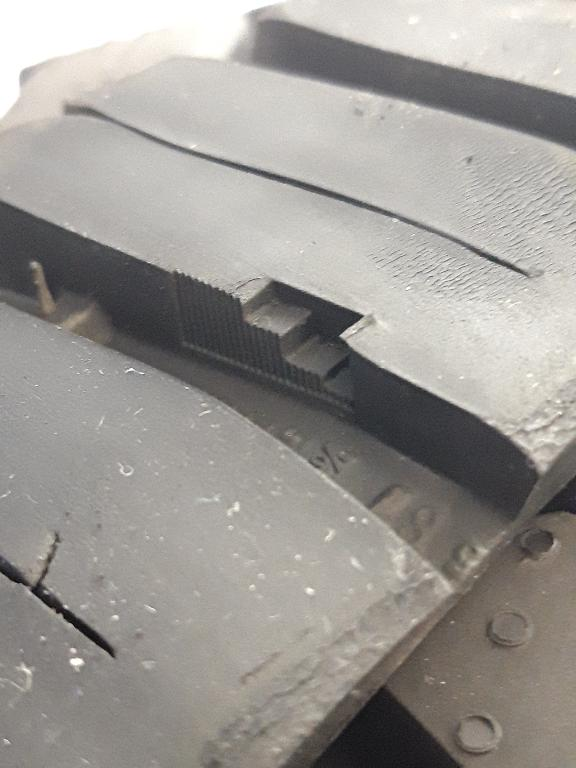temoin:75: (192, 255, 383, 425)
